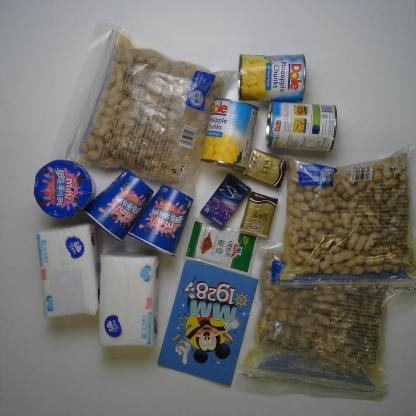Canned Food: (199, 92, 260, 175), (234, 51, 309, 106), (265, 99, 339, 154)
Dessert: (79, 167, 155, 246), (125, 182, 195, 259), (31, 157, 98, 221)
Dried Food: (45, 17, 248, 204), (230, 238, 400, 404), (271, 138, 416, 294)
Gum: (198, 171, 252, 231)
Seasoner: (181, 216, 261, 278)
Stationery: (155, 256, 263, 390)
Tissue: (32, 220, 104, 320), (96, 248, 162, 350), (238, 189, 282, 241), (241, 147, 292, 189)
